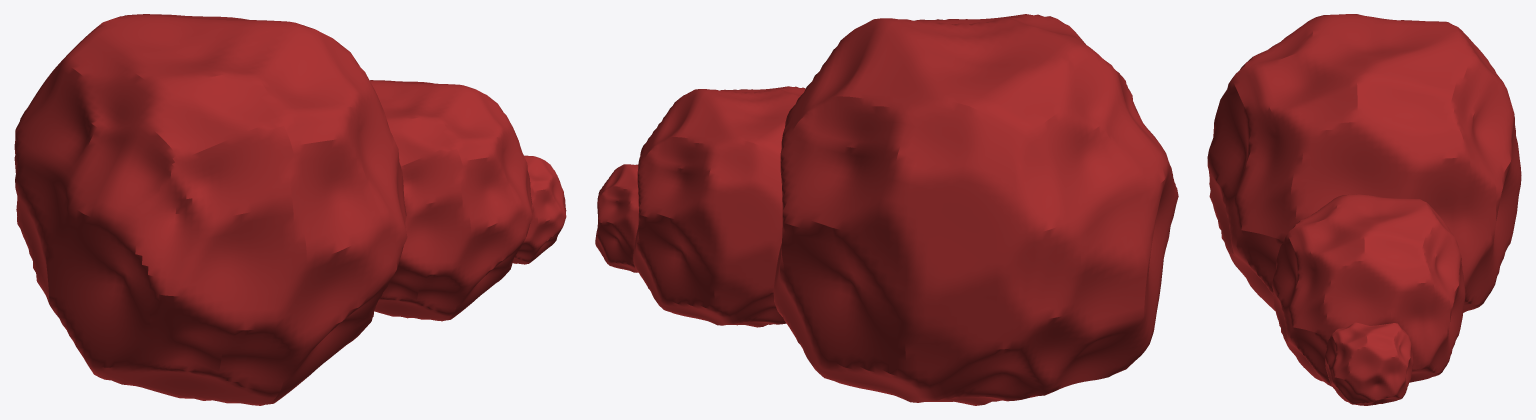
The model's file is rock.fbx.
The picture shows the model from 3 angles, left to right: view 1: azimuth 30°, elevation 25°; view 2: azimuth 150°, elevation 25°; view 3: azimuth 270°, elevation 25°; orthographic projection. The views are drawn at different scales.
Visible parts, largest first — view 1: Cube, Cube.001, Cube.002; view 2: Cube, Cube.001, Cube.002; view 3: Cube, Cube.001, Cube.002.
Part boxes in pixels (x1,y1,x2,y2): Cube: (14,14,407,405); Cube.001: (369,80,532,321); Cube.002: (512,155,566,264); Cube: (773,14,1178,405); Cube.001: (633,86,805,327); Cube.002: (595,164,638,272); Cube: (1207,14,1521,312); Cube.001: (1272,194,1465,386); Cube.002: (1325,322,1413,405).
Bounding box in the file's own units: 264 × 162 × 170.
